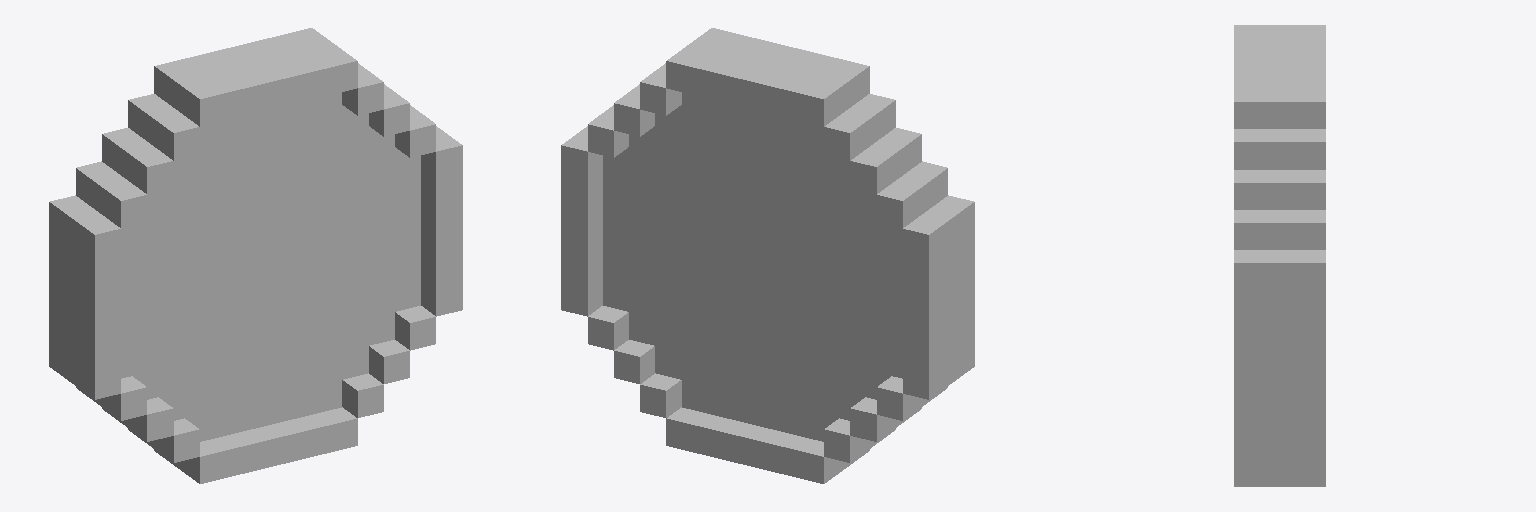
The model's file is moneda.obj.
3 renders of one model, left to right at view 1: azimuth 30°, elevation 25°; view 2: azimuth 150°, elevation 25°; view 3: azimuth 270°, elevation 25°, orthographic.
Visible parts, largest first — view 1: object 1; view 2: object 1; view 3: object 1.
Boxes of the visible parts, x1=… form: object 1: x1=49, y1=28, x2=462, y2=483; object 1: x1=561, y1=28, x2=974, y2=483; object 1: x1=1234, y1=25, x2=1325, y2=486.
Size of the model in its own units: 1.4 by 1.4 by 0.3.